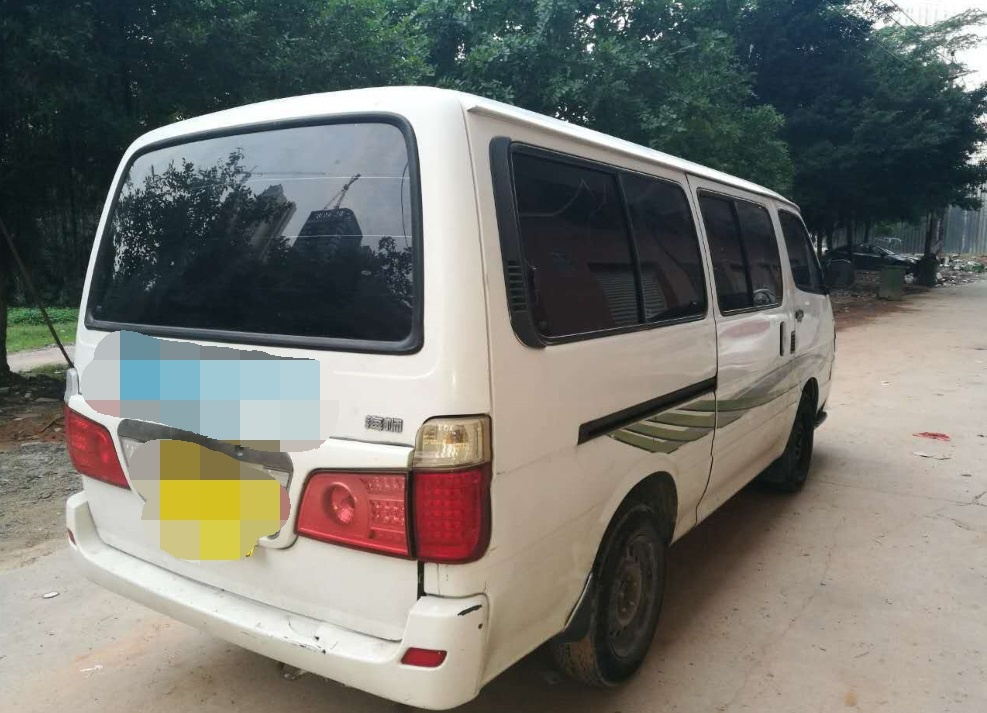minibus: (58, 80, 866, 708)
